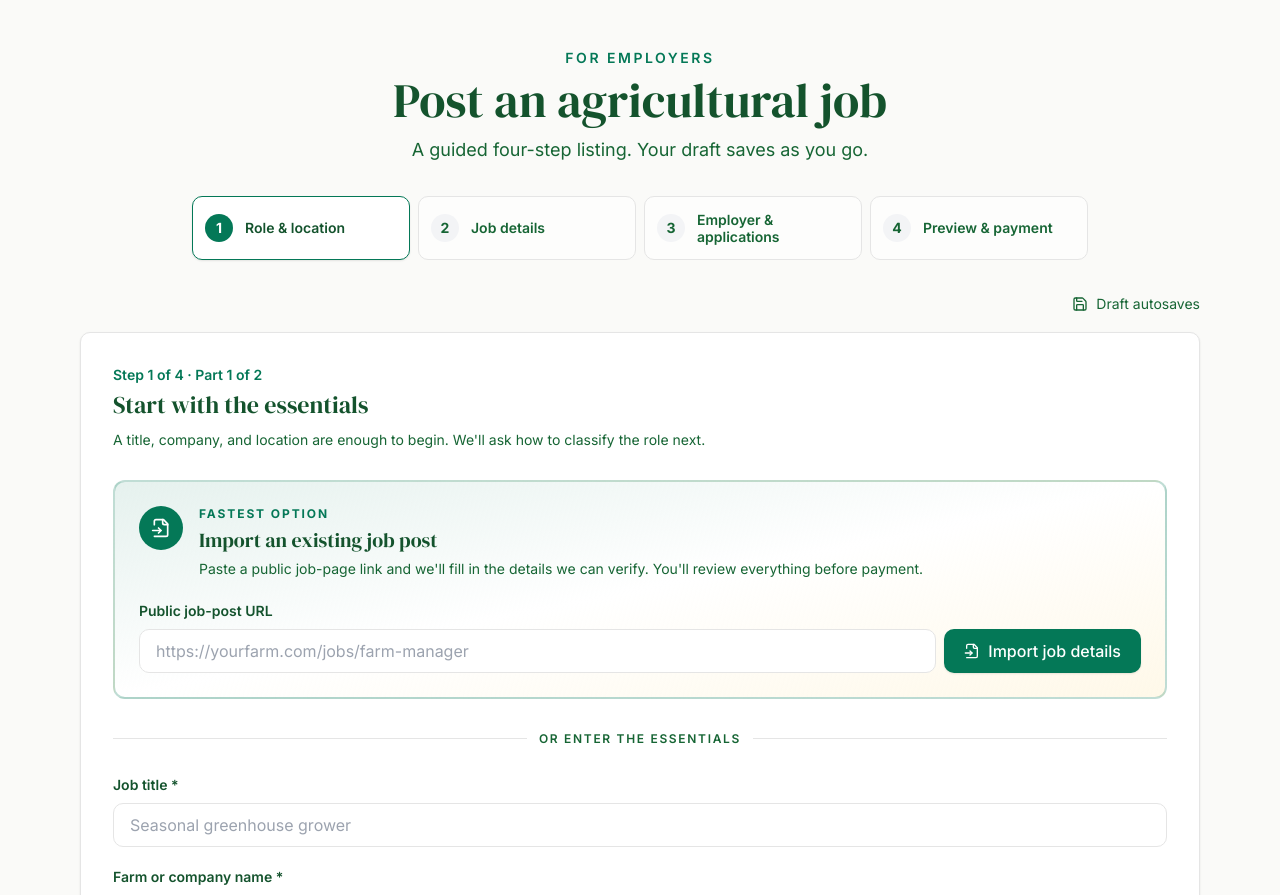
Test: PostJobWizard progressive role step › measures import attempt and success without putting the source URL in funnel properties
Expected: the heading "Start with the essentials" is shown, 113,389 -> 368,421
Type "https://existing.example/jobs/farm-manager?private=do-not-track" into the field labelled "Public job-post URL". click: (538, 650)
box: 139,628 -> 936,672
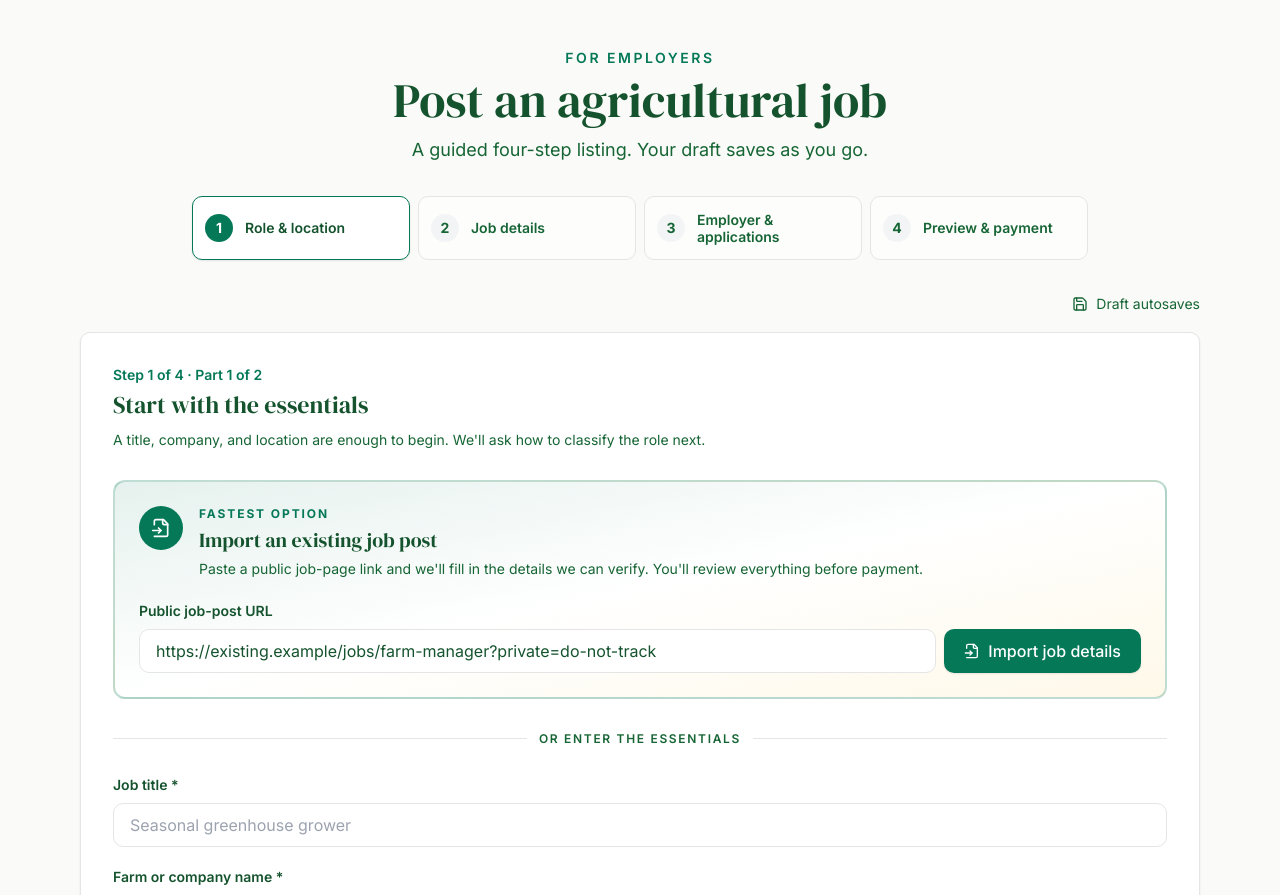
Click the button "Import job details". click: (1043, 650)
box: 944,628 -> 1141,672
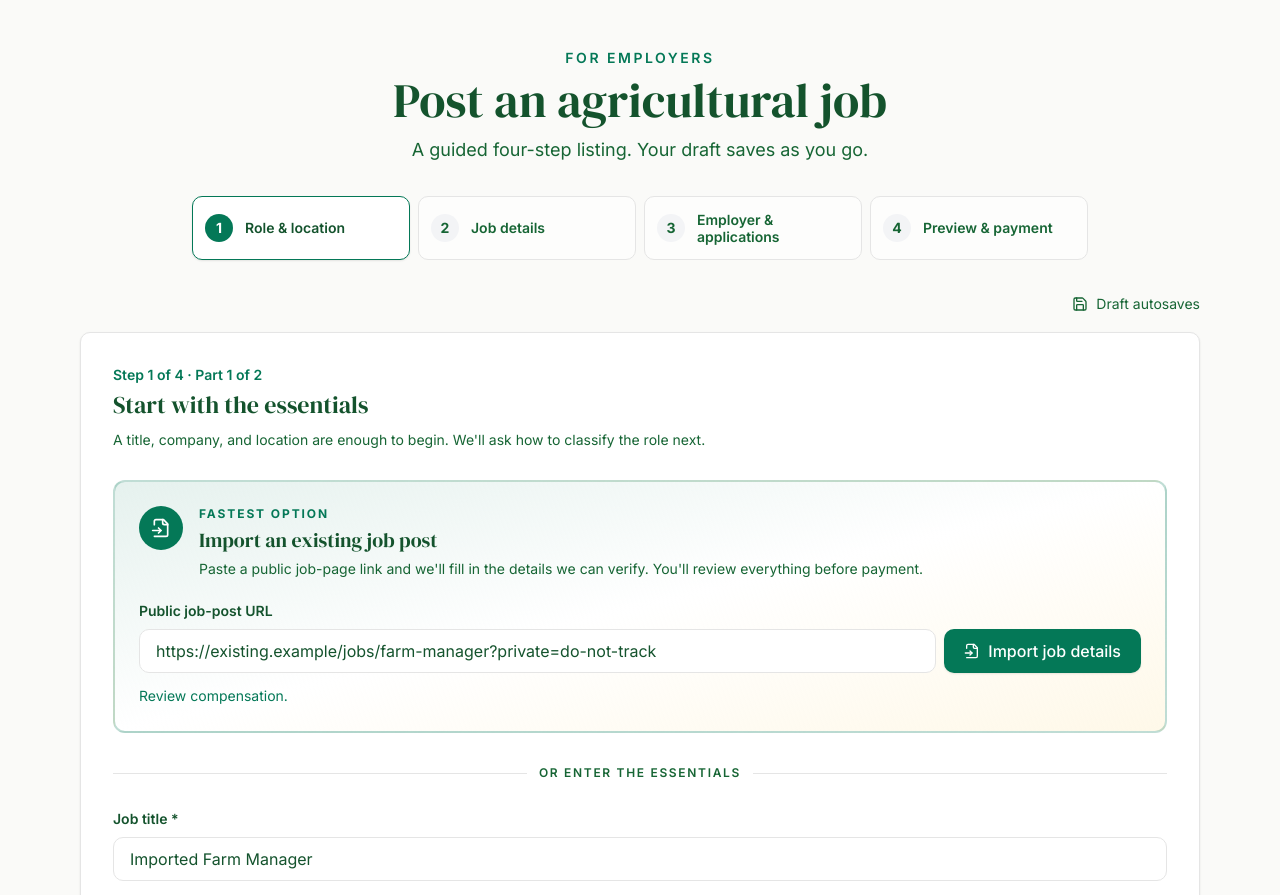
Result: the field labelled "Job title *" holds "Imported Farm Manager" at 113,837 -> 1167,881
